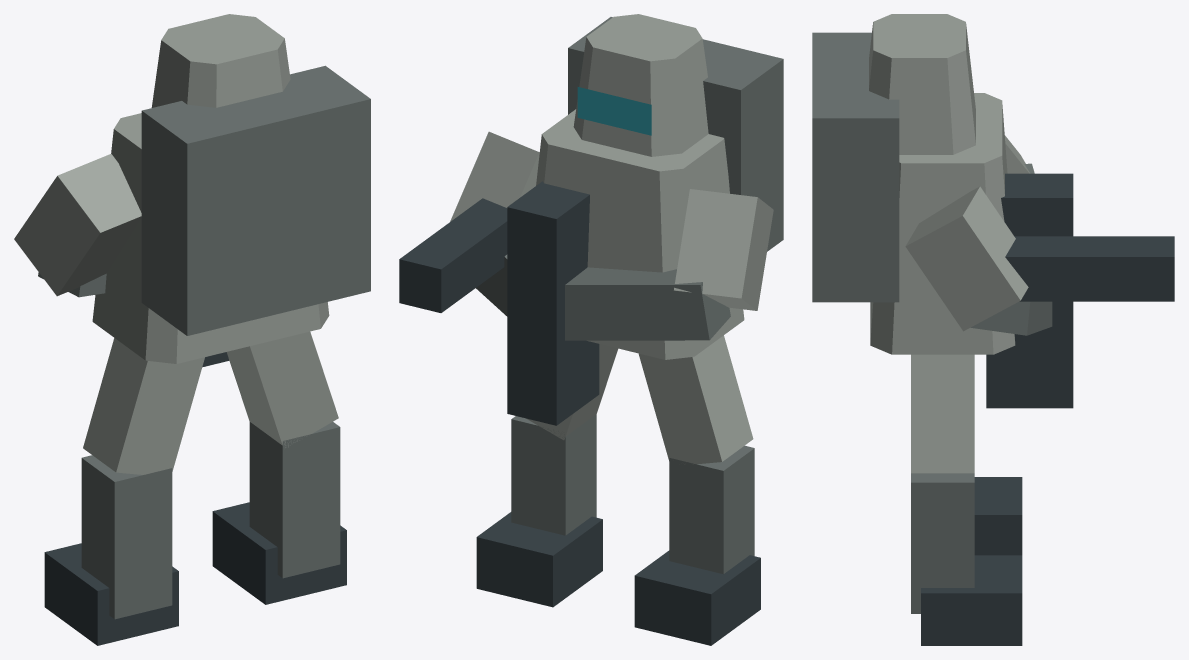
Rendered from battle-armor-standing.glb.
3 views of the same model, side by side, from view 1: azimuth 30°, elevation 25°; view 2: azimuth 150°, elevation 25°; view 3: azimuth 270°, elevation 25° (orthographic). The views are drawn at different scales.
Visible parts, largest first — view 1: torso, leftLegShin, rightLegShin, leftArm, leftLeg, head, rightLeg, leftLegFoot, rightLegFoot, leftArmForearm; view 2: torso, rightArmForearm, head, leftArmForearm, leftLeg, leftLegShin, leftArm, rightLegShin, leftLegFoot, rightLegFoot, rightArm, rightLeg; view 3: torso, rightArmForearm, head, rightArm, rightLeg, rightLegShin, rightLegFoot, leftLegFoot, leftArm.
Part boxes in pixels (box(x1,y1,x2,y2)): torso: box(92, 65, 370, 363); leftLegShin: box(81, 455, 172, 619); rightLegShin: box(249, 422, 340, 578); leftArm: box(14, 153, 141, 296); leftLeg: box(83, 338, 204, 474); head: box(151, 14, 290, 107); rightLeg: box(226, 331, 338, 447); leftLegFoot: box(44, 543, 178, 645); rightLegFoot: box(212, 502, 346, 604); leftArmForearm: box(38, 272, 106, 297); torso: box(536, 17, 783, 359); rightArmForearm: box(399, 181, 599, 425); head: box(573, 14, 708, 156); leftArmForearm: box(565, 267, 730, 340); leftLeg: box(638, 335, 753, 464); leftLegShin: box(669, 445, 754, 574); leftArm: box(674, 189, 773, 310); rightLegShin: box(511, 414, 596, 535); leftLegFoot: box(634, 550, 760, 645); rightLegFoot: box(476, 512, 602, 607); rightArm: box(450, 131, 539, 221); rightLeg: box(526, 344, 617, 440); torso: box(812, 32, 1015, 354); rightArmForearm: box(970, 173, 1174, 408); head: box(869, 14, 975, 154); rightArm: box(905, 186, 1028, 331); rightLeg: box(911, 354, 974, 473); rightLegShin: box(911, 473, 974, 613); rightLegFoot: box(921, 555, 1022, 645); leftLegFoot: box(974, 477, 1022, 555); leftArm: box(1004, 135, 1030, 173).
Size of the model in its own units: 5.51 by 9.72 by 5.79.
